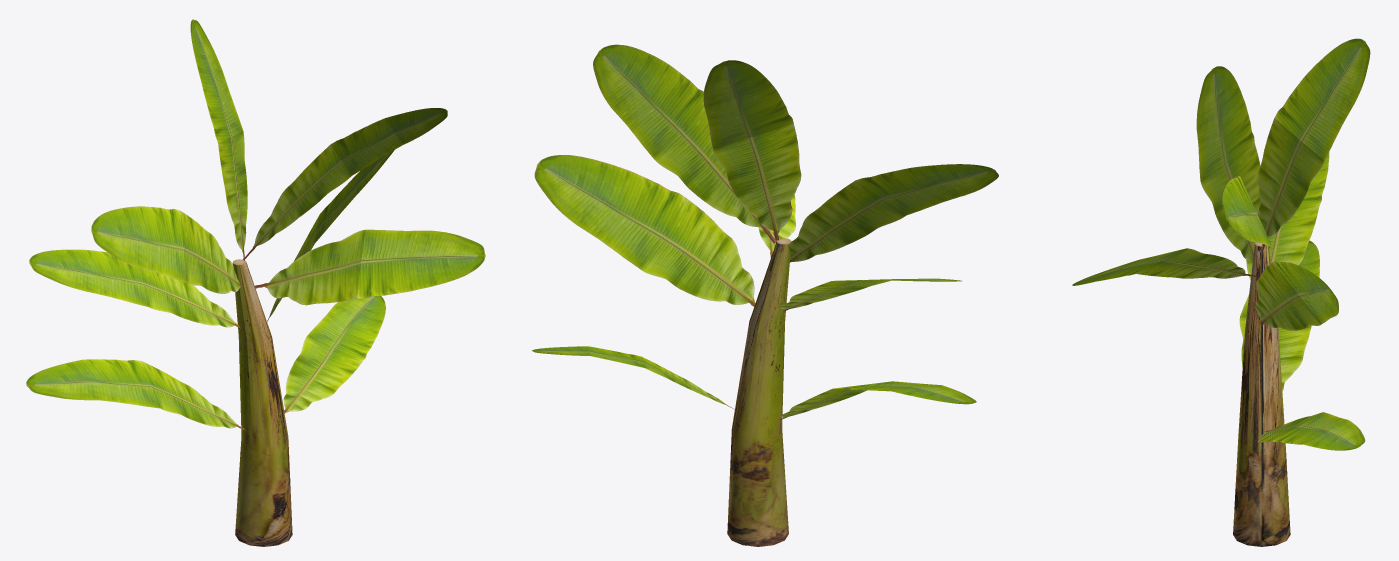
File: BananaTree1.fbx
The picture shows the model from 3 angles, left to right: view 1: azimuth 30°, elevation 25°; view 2: azimuth 150°, elevation 25°; view 3: azimuth 270°, elevation 25°; orthographic projection. The views are drawn at different scales.
Parts seen in each view (by area): view 1: BananaTree 1; view 2: BananaTree 1; view 3: BananaTree 1.
Part boxes in pixels (<box>): BananaTree 1: <box>26,19,485,546</box>; BananaTree 1: <box>532,44,998,546</box>; BananaTree 1: <box>1072,38,1370,546</box>.
Bounding box in the file's own units: 243 × 283 × 176.
Materials: 2 (2 with a texture image).
